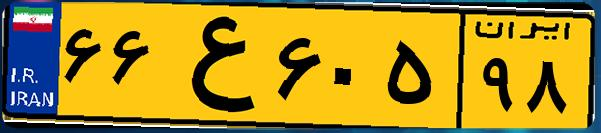0: (330, 28, 385, 110)
5: (385, 28, 445, 110)
6: (270, 28, 330, 110), (57, 26, 110, 100), (110, 28, 158, 98)
8: (525, 38, 570, 115)
9: (475, 38, 525, 113)
ع: (158, 12, 270, 120)
